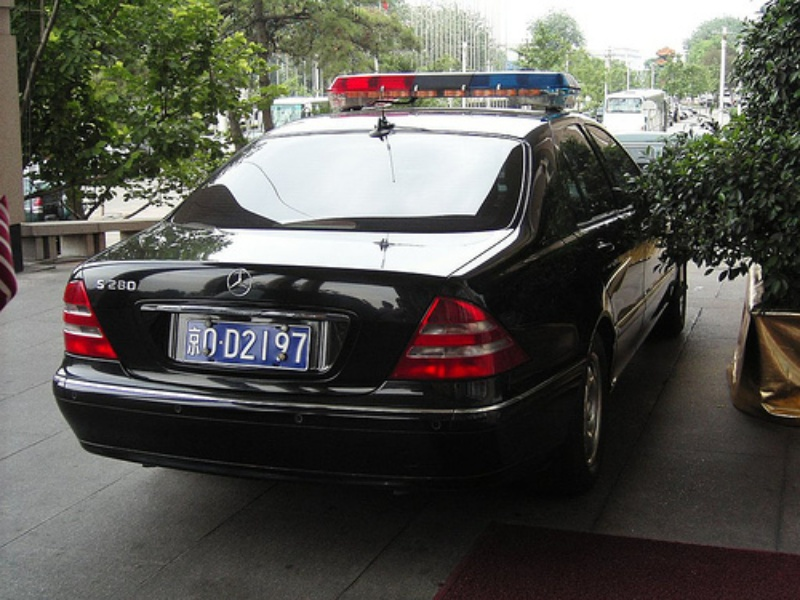car: (52, 108, 690, 489), (605, 88, 666, 135)
